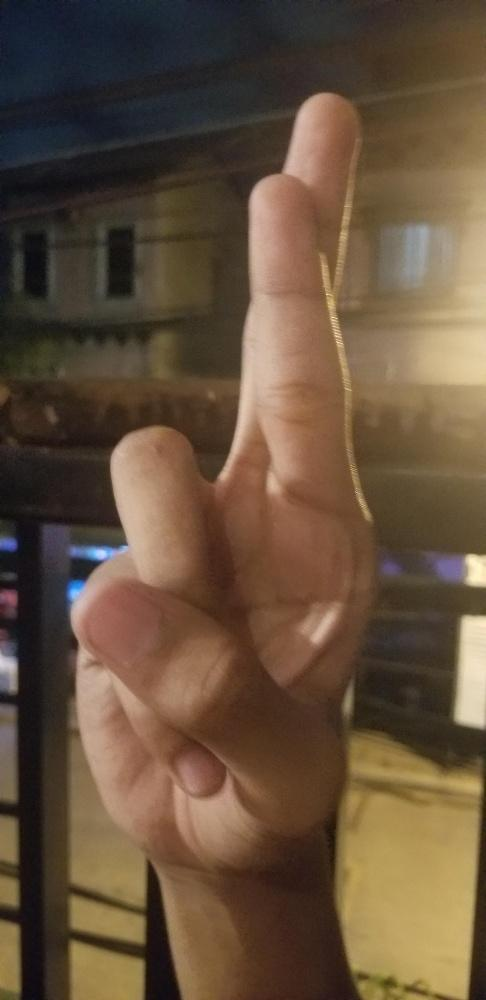r: (70, 84, 378, 872)
